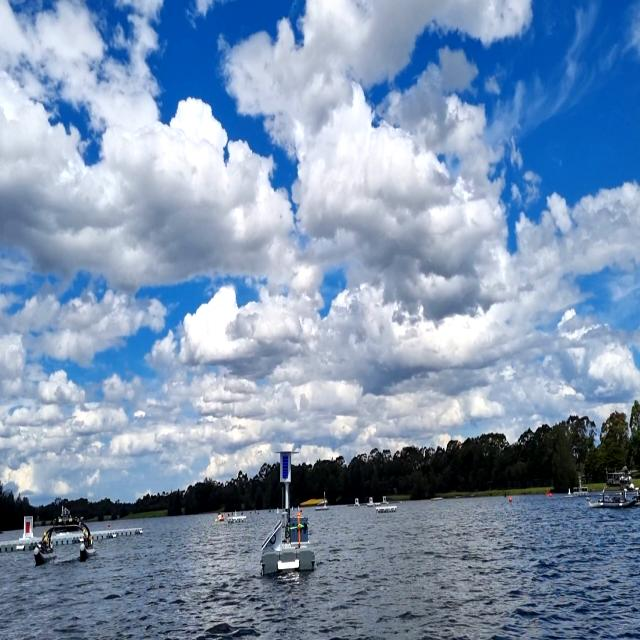led: (282, 454, 290, 482)
